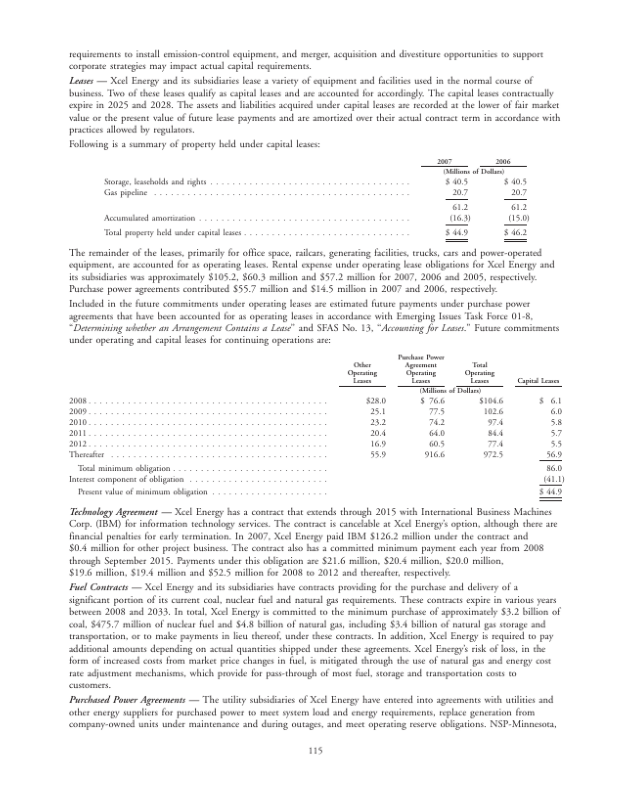table: (340, 352, 567, 503), (415, 152, 528, 243)
